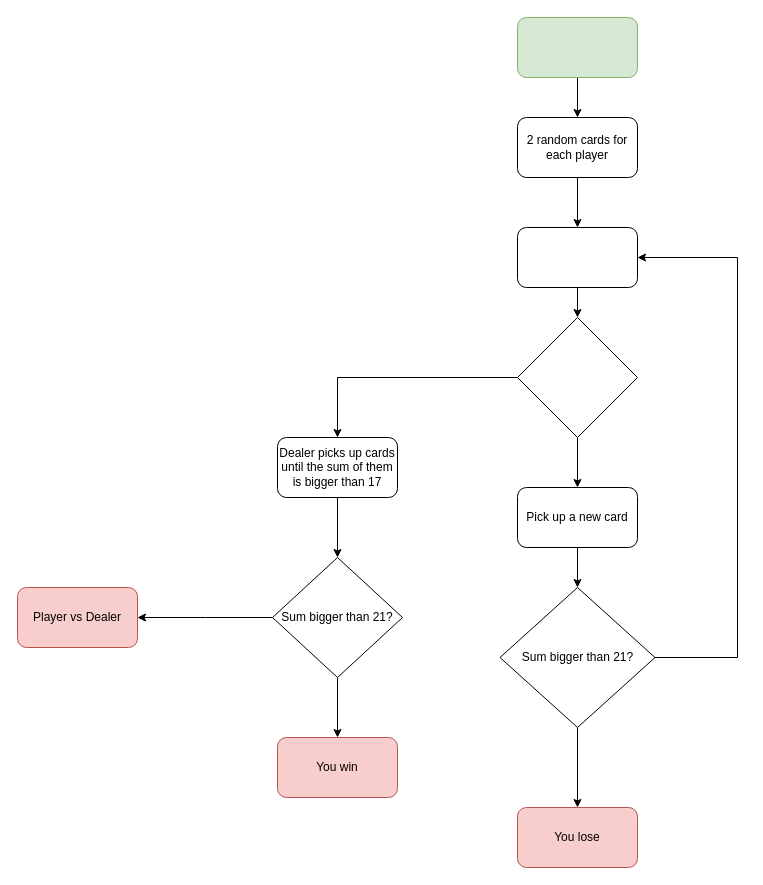
Some shapes in this 763 by 885 pixel diagram are drawn without their labels. The shapes that lost their labels are listed below. From the top down, each one's box as (x1, y1, x2, y2) in pixels, then its label:
(516, 16, 638, 78): Start
(516, 226, 638, 288): Show cards
(516, 316, 638, 438): Continue?
